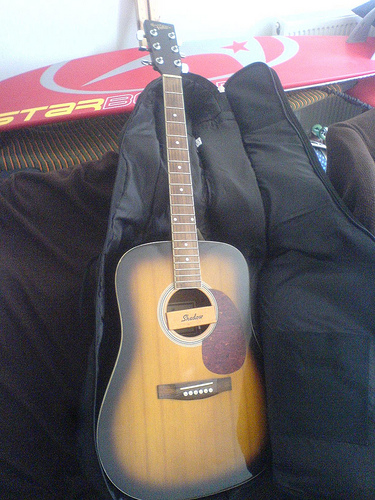guitar: (84, 18, 276, 500)
